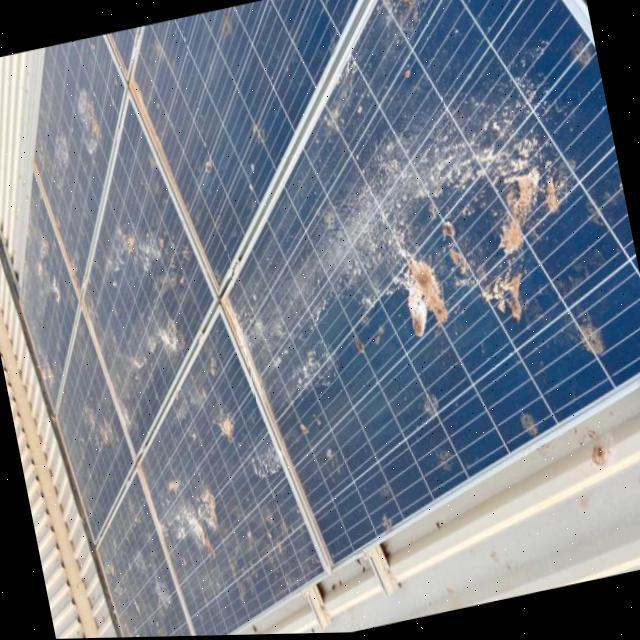Anomaly Solar Panel: (171, 0, 640, 577), (9, 94, 254, 453), (84, 312, 335, 637), (130, 0, 361, 289), (26, 314, 150, 538), (32, 35, 126, 297), (95, 470, 194, 638), (20, 168, 81, 412)
Surface Contaminant: (332, 40, 612, 385), (75, 220, 190, 434), (308, 0, 439, 161), (146, 327, 252, 466), (88, 499, 183, 638), (145, 464, 239, 586), (218, 504, 318, 604), (0, 224, 75, 344), (60, 398, 120, 464), (561, 303, 617, 372), (63, 85, 108, 162), (236, 443, 286, 492), (184, 144, 228, 193), (142, 27, 182, 77), (508, 402, 549, 447), (411, 385, 448, 430), (45, 135, 71, 197)
